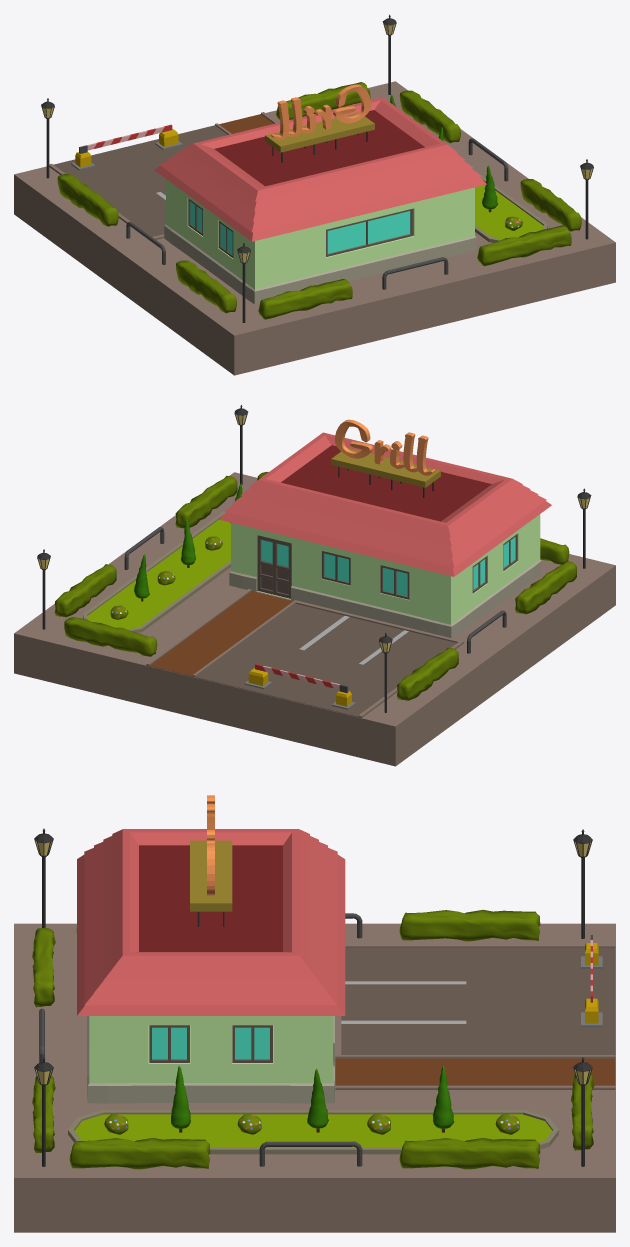
The model's file is Cafe.fbx.
3 renders of one model, top to bottom at view 1: azimuth 30°, elevation 25°; view 2: azimuth 150°, elevation 25°; view 3: azimuth 270°, elevation 25°, orthographic. The views are drawn at different scales.
Visible parts, largest first — view 1: Cafe_Ground_0, Cafe_Roof_2, Cafe_Walls_1, Cafe_Fence_07, Parking, Garden, Cafe_Windows_04, Cafe_Grill_06, Cafe_GrillTable_06, Cafe_Lamps, Cafe_Windows_5; view 2: Cafe_Ground_0, Cafe_Roof_2, Parking, Cafe_Walls_1, Cafe_Fence_07, Garden, Cafe_Grill_06, CafeDoors_3, Cafe_GrillTable_06, Cafe_Windows_04, Cafe_Lamps, Cafe_Windows_5; view 3: Cafe_Ground_0, Cafe_Roof_2, Parking, Cafe_Walls_1, Garden, Cafe_Fence_07, Cafe_Windows_5, Cafe_GrillTable_06, Cafe_Lamps, Cafe_Grill_06.
Boxes of the visible parts, left/top/right/bottom form: Cafe_Ground_0: left=14, top=81, right=615, bottom=375; Cafe_Roof_2: left=154, top=97, right=486, bottom=241; Cafe_Walls_1: left=164, top=179, right=476, bottom=304; Cafe_Fence_07: left=57, top=82, right=581, bottom=319; Parking: left=49, top=112, right=277, bottom=239; Garden: left=390, top=94, right=547, bottom=242; Cafe_Windows_04: left=326, top=208, right=413, bottom=256; Cafe_Grill_06: left=271, top=84, right=370, bottom=140; Cafe_GrillTable_06: left=265, top=112, right=374, bottom=162; Cafe_Lamps: left=41, top=14, right=593, bottom=322; Cafe_Windows_5: left=188, top=198, right=233, bottom=258; Cafe_Ground_0: left=14, top=472, right=615, bottom=766; Cafe_Roof_2: left=219, top=432, right=551, bottom=576; Parking: left=146, top=589, right=464, bottom=717; Cafe_Walls_1: left=229, top=514, right=541, bottom=638; Cafe_Fence_07: left=54, top=472, right=576, bottom=700; Garden: left=83, top=483, right=242, bottom=632; Cafe_Grill_06: left=335, top=419, right=434, bottom=475; CafeDoors_3: left=257, top=535, right=291, bottom=598; Cafe_GrillTable_06: left=331, top=447, right=440, bottom=497; Cafe_Windows_04: left=321, top=551, right=409, bottom=599; Cafe_Lamps: left=37, top=405, right=591, bottom=712; Cafe_Windows_5: left=472, top=534, right=517, bottom=593; Cafe_Ground_0: left=14, top=923, right=615, bottom=1232; Cafe_Roof_2: left=77, top=829, right=345, bottom=1015; Parking: left=335, top=935, right=615, bottom=1089; Cafe_Walls_1: left=87, top=1016, right=334, bottom=1103; Garden: left=68, top=1065, right=558, bottom=1154; Cafe_Fence_07: left=32, top=909, right=594, bottom=1169; Cafe_Windows_5: left=149, top=1025, right=272, bottom=1062; Cafe_GrillTable_06: left=190, top=840, right=232, bottom=926; Cafe_Lamps: left=34, top=828, right=592, bottom=1166; Cafe_Grill_06: left=207, top=795, right=214, bottom=895.
Size of the model in its own units: 10 by 4.8 by 10.
